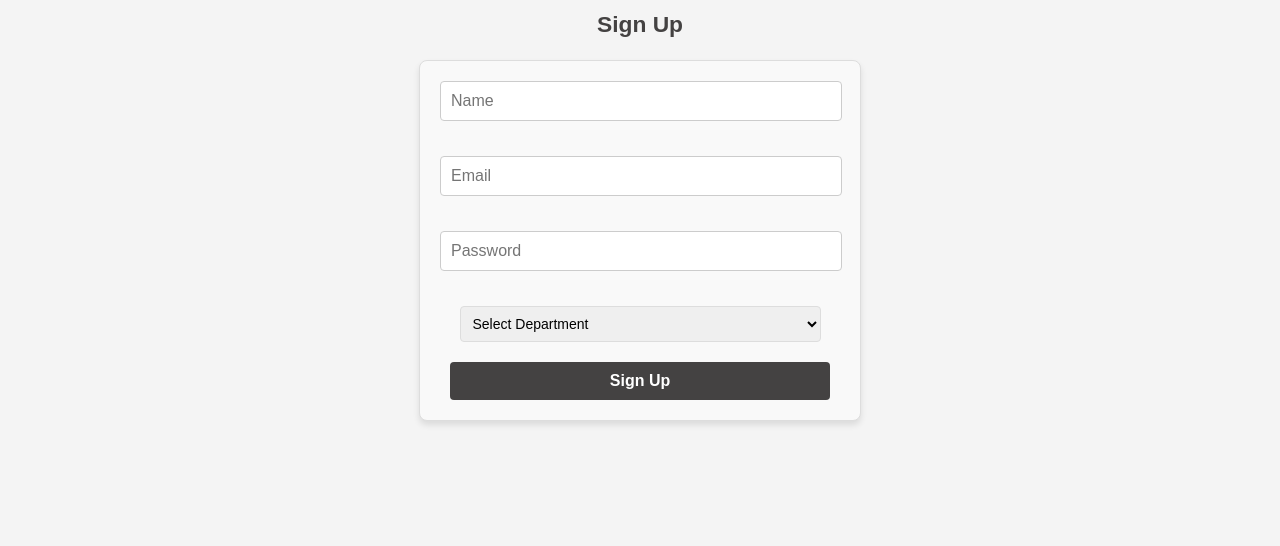
Test: SignUp Component › displays error message when signup fails
// Fill in the form
In the field with placeholder "Name": (641, 101) [440,81,842,121], type "Test User"
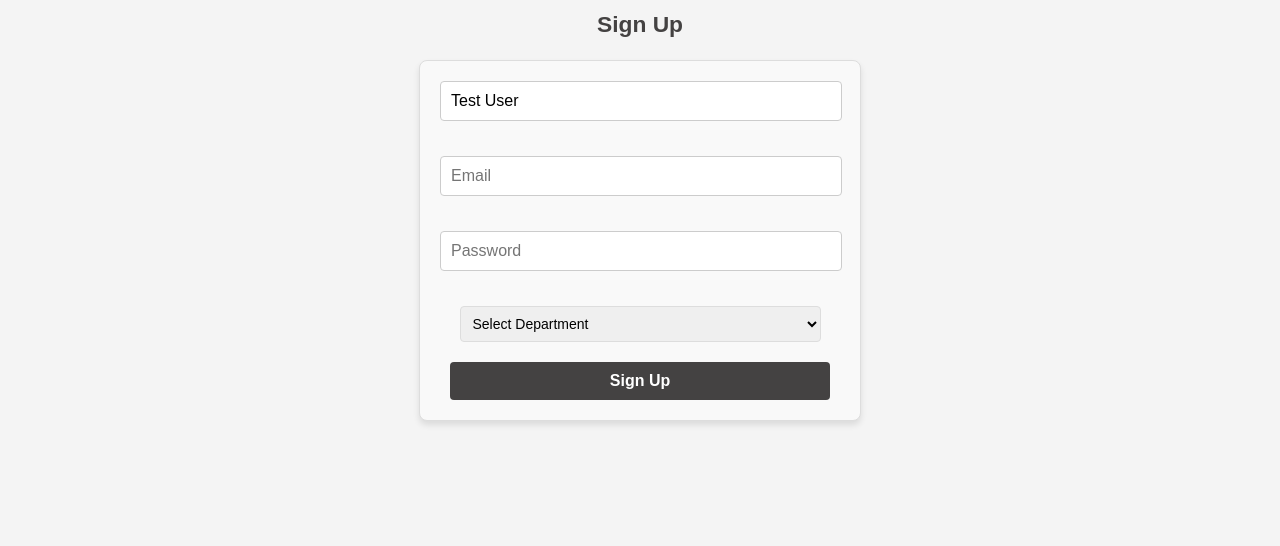
In the field with placeholder "Email": (641, 176) [440,156,842,196], type "test@example.com"
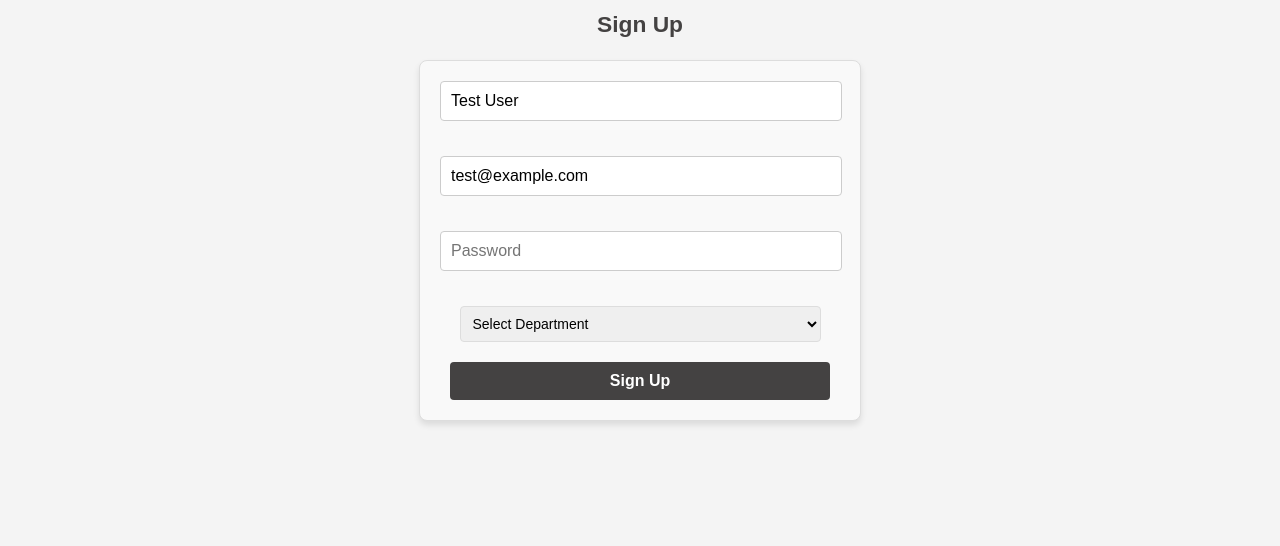
In the password field with placeholder "Password": (641, 251) [440,231,842,271], type "password123"
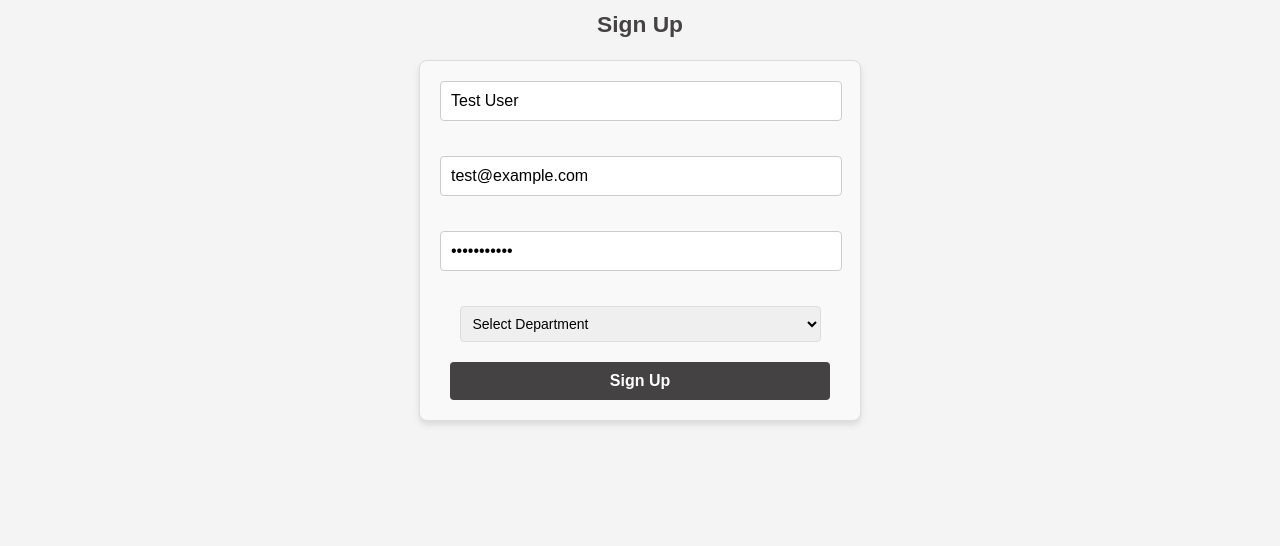
// Select department from dropdown
Select "Computer Science & Engineering" in the dropdown: (640, 324) [460,306,820,342]
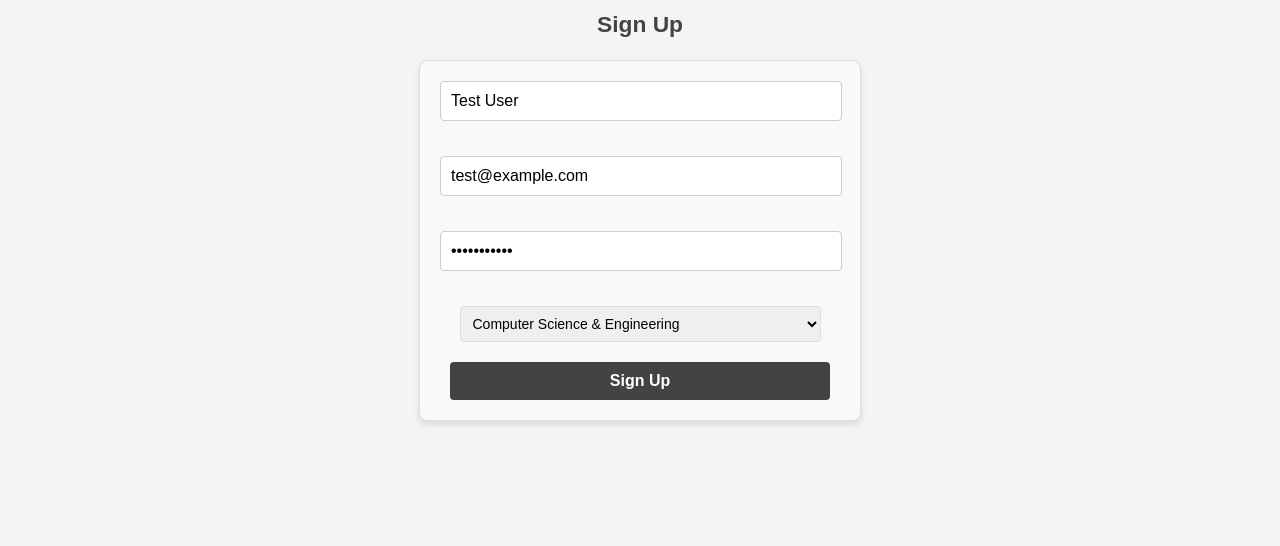
// Submit the form
Click the button "Sign Up": (640, 381) [450,362,830,400]
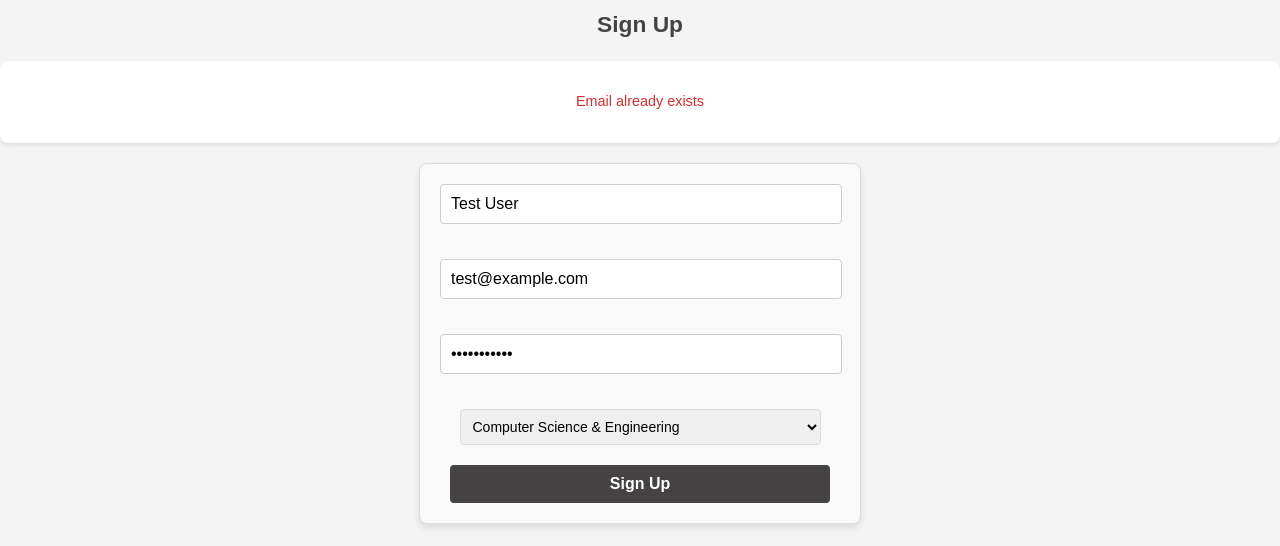
Now the text "Email already exists" is shown, box [0,61,1279,143]
